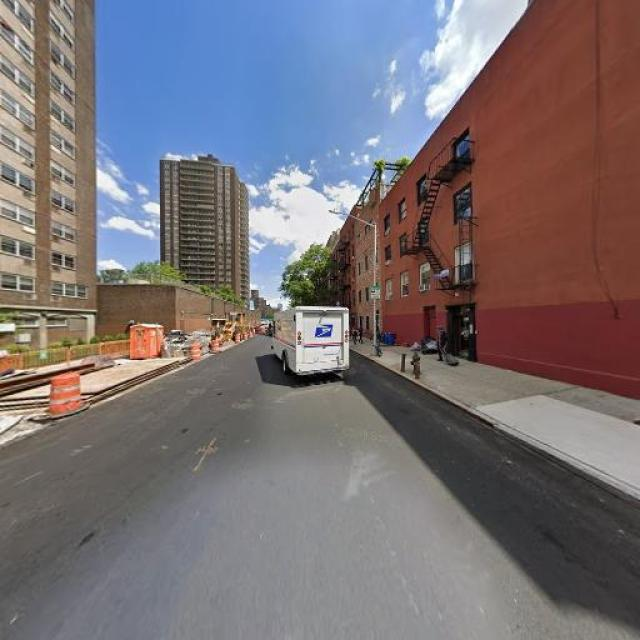Building: (382, 1, 640, 395), (1, 1, 260, 350)
